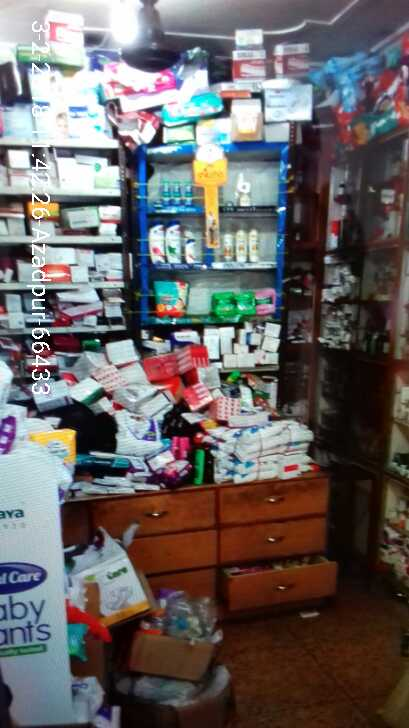vicks: (163, 180, 200, 204)
